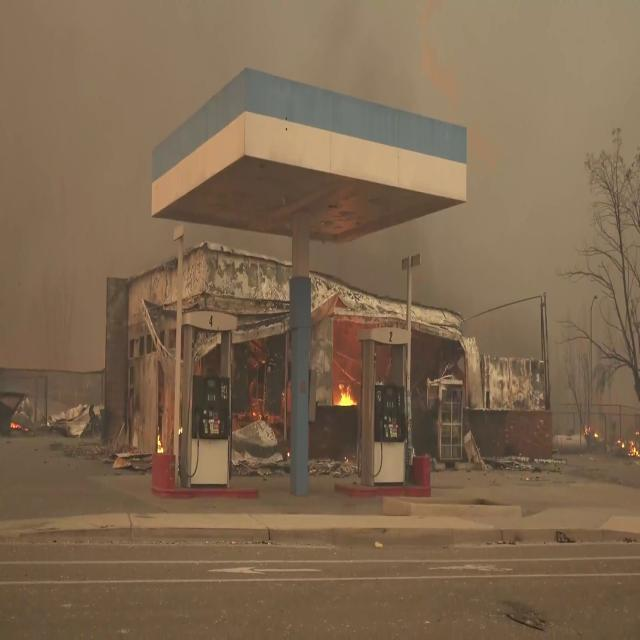Fire: (335, 369, 357, 410)
Smoke: (355, 241, 404, 292)
